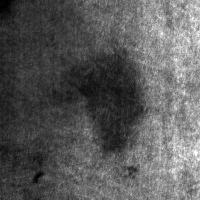patches: (0, 0, 101, 139), (73, 46, 145, 157)
